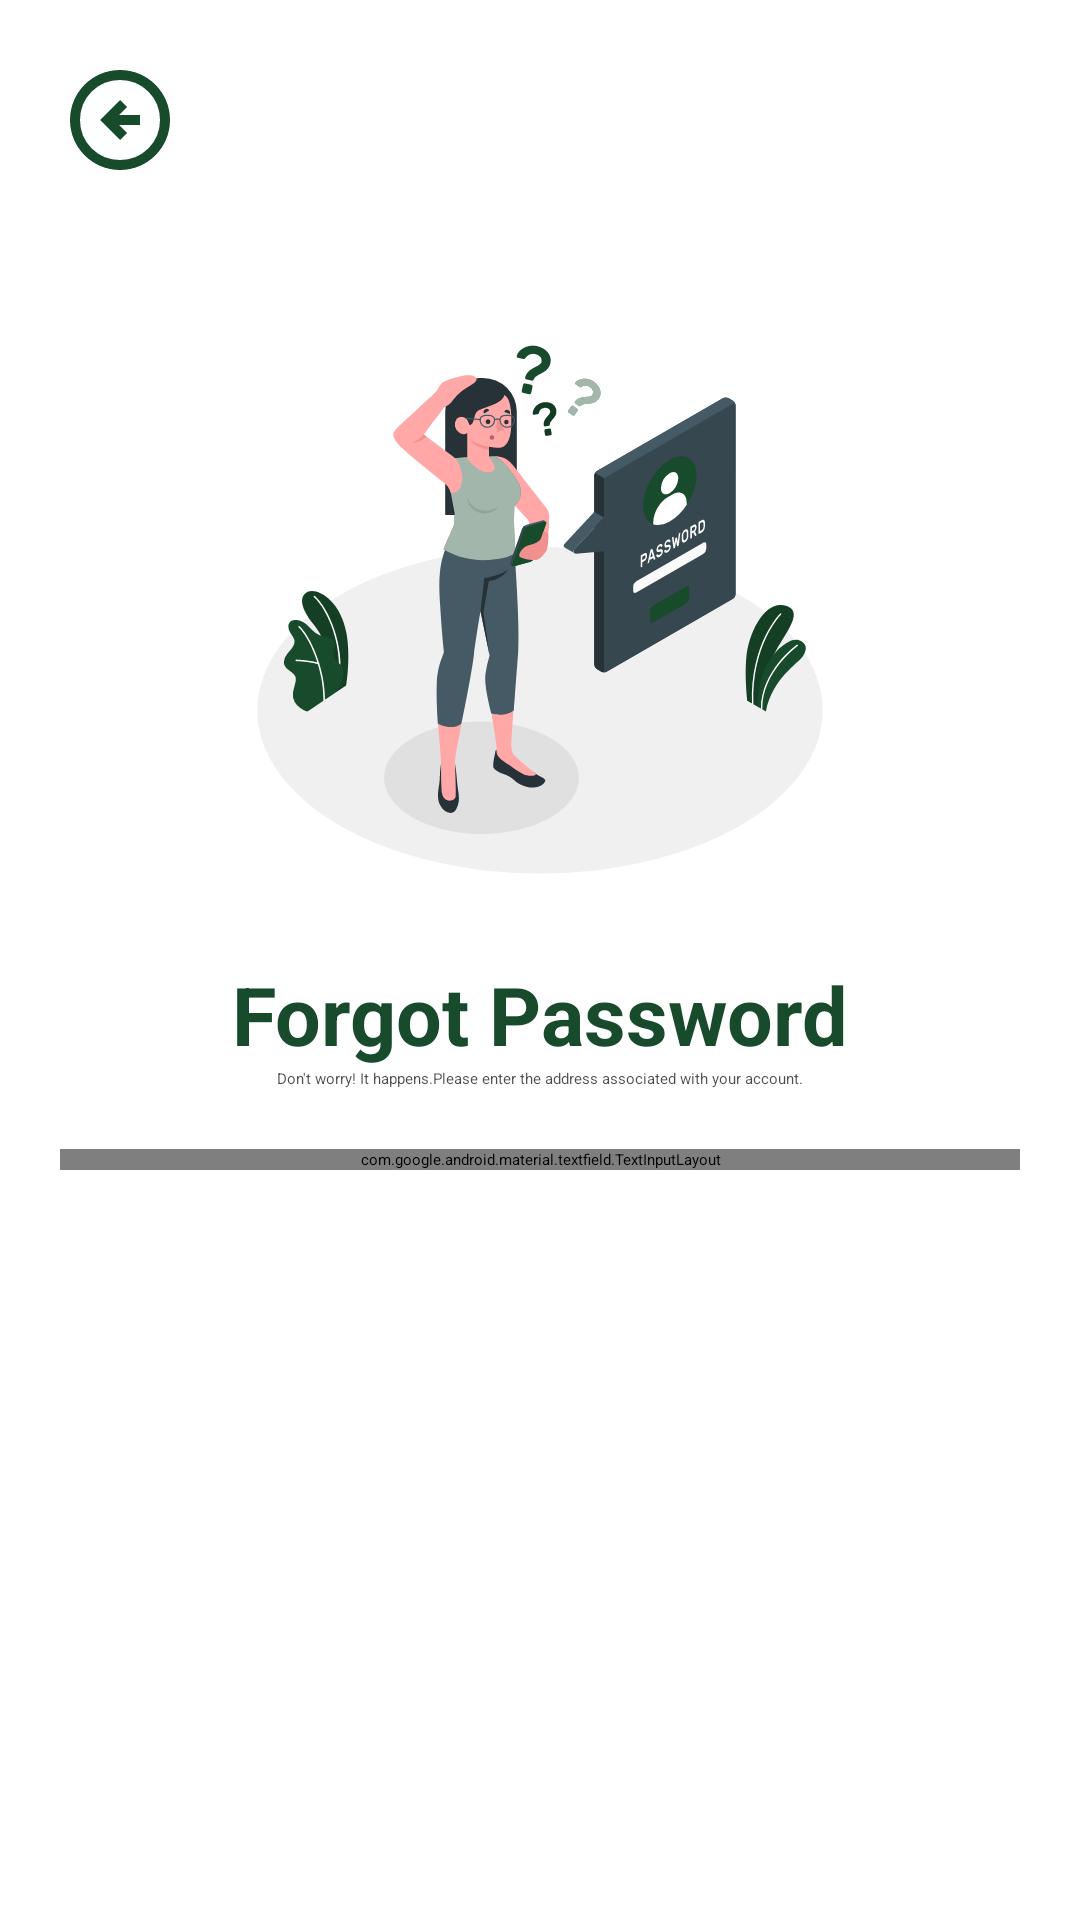

Icons on this 1080 x 1920 Android screen, each with its box as (x1, y1, x2, y2):
arrow back: (70, 70, 170, 170)
